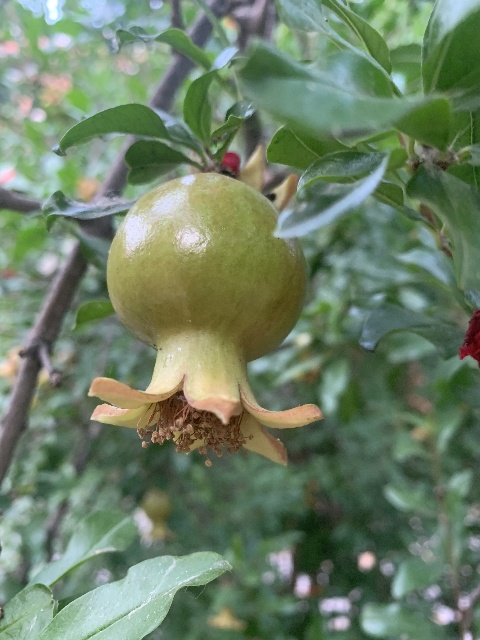mid-growth: (88, 173, 323, 464)
